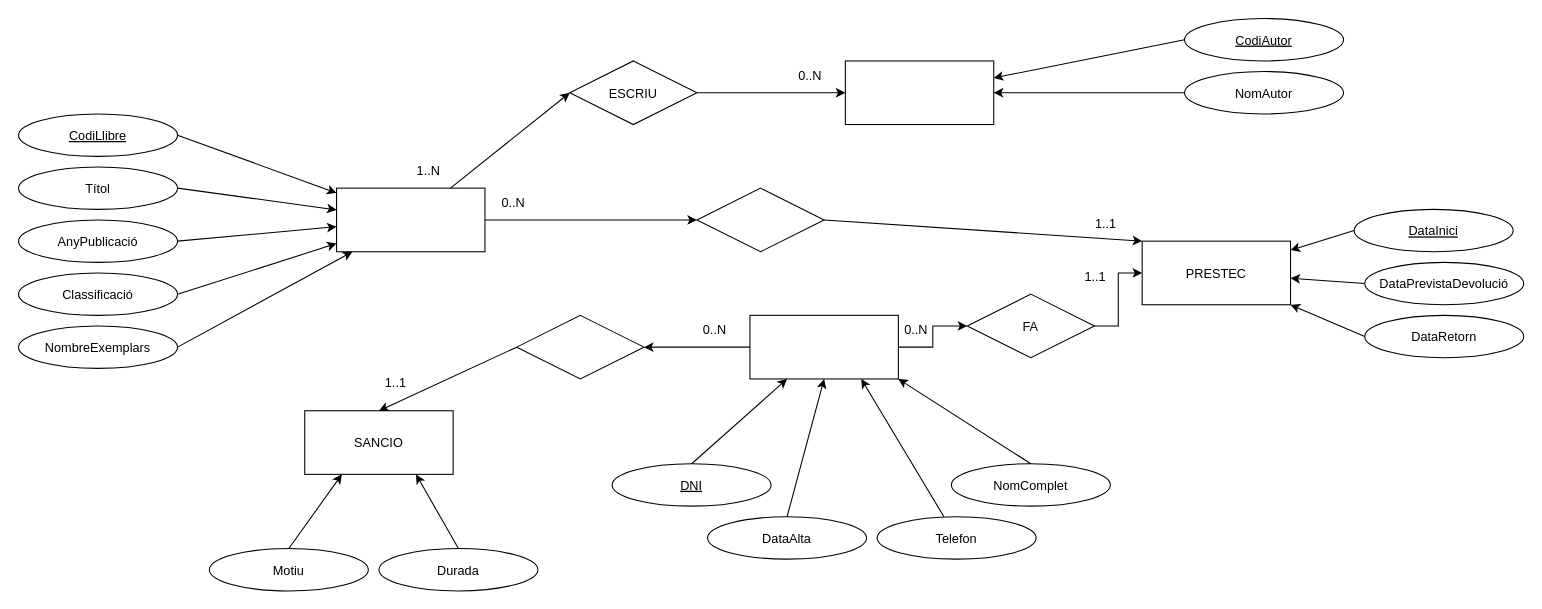
Some shapes in this 1542 by 609 pixel diagram are drawn without their labels. The shapes that lost their labels are listed below. From the top down, each one's centre as x and y in pixels, then its label:
(x=919, y=92): AUTOR
(x=410, y=219): LLIBRE
(x=760, y=219): INCLOU
(x=580, y=346): REP
(x=823, y=346): USUARI
